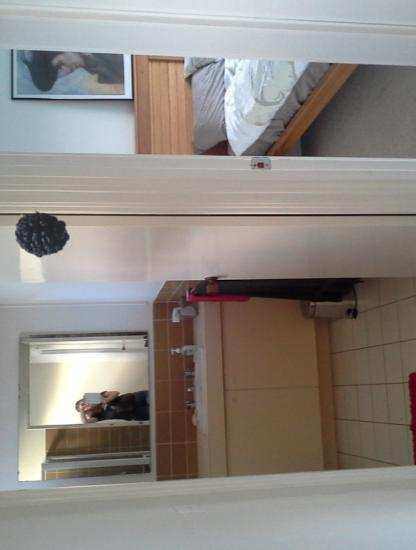Mulberry: (1, 206, 70, 275)
